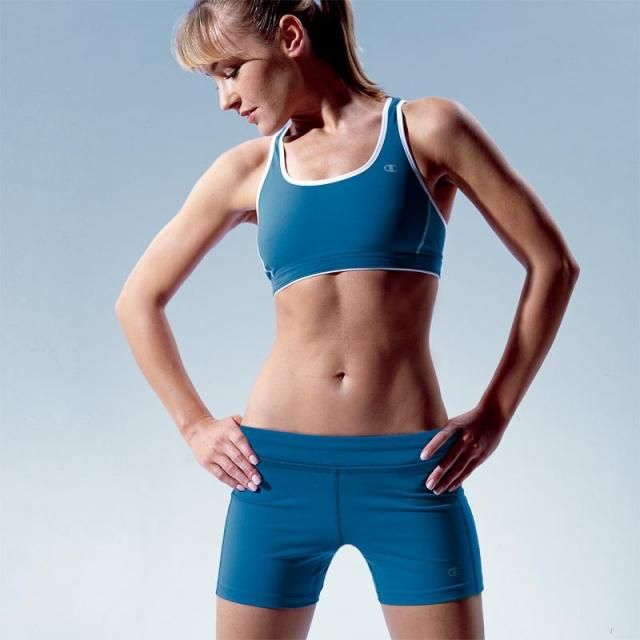person: (110, 1, 564, 638)
